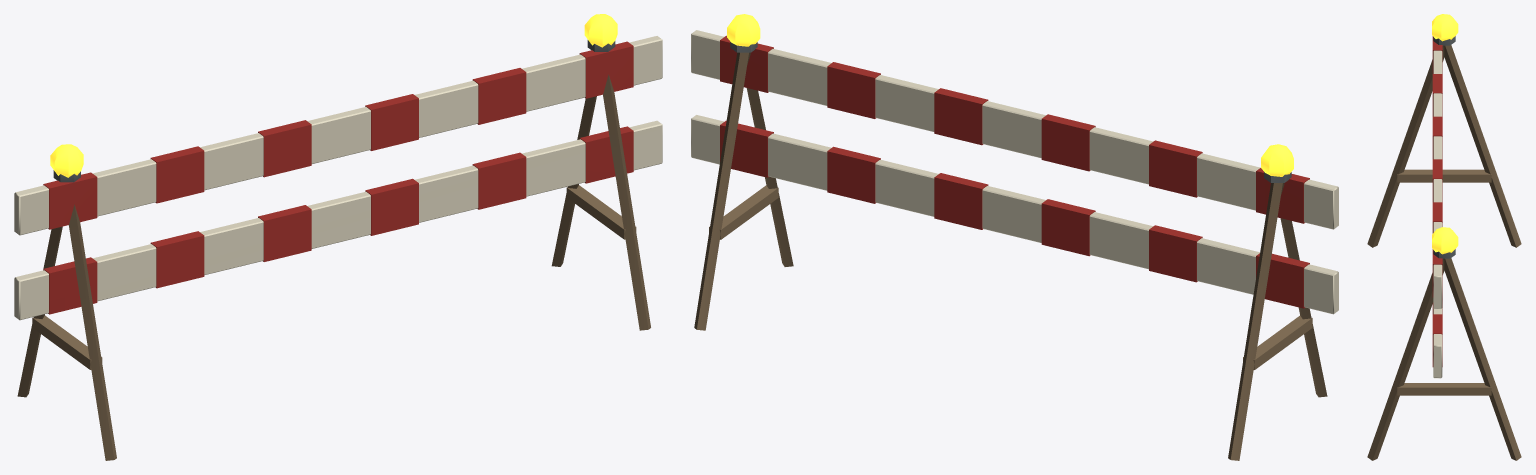
Rendered from barrier_road.glb.
3 views of the same model, side by side, from view 1: azimuth 30°, elevation 25°; view 2: azimuth 150°, elevation 25°; view 3: azimuth 270°, elevation 25° (orthographic). The views are drawn at different scales.
Parts seen in each view (by area): view 1: barrier_road, glow; view 2: barrier_road, glow; view 3: barrier_road, glow.
Boxes of the visible parts, left/top/right/bottom form: barrier_road: left=14, top=36, right=662, bottom=460; glow: left=50, top=14, right=617, bottom=177; barrier_road: left=691, top=30, right=1338, bottom=460; glow: left=727, top=14, right=1293, bottom=176; barrier_road: left=1367, top=36, right=1521, bottom=460; glow: left=1432, top=14, right=1458, bottom=254.
Size of the model in its own units: 2.7 by 1.13 by 0.6857.
